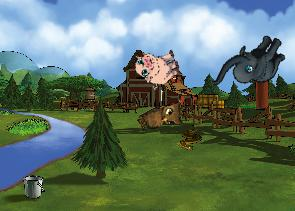elephant: (210, 20, 291, 107)
owl: (135, 96, 189, 142)
pig: (131, 42, 184, 92)
